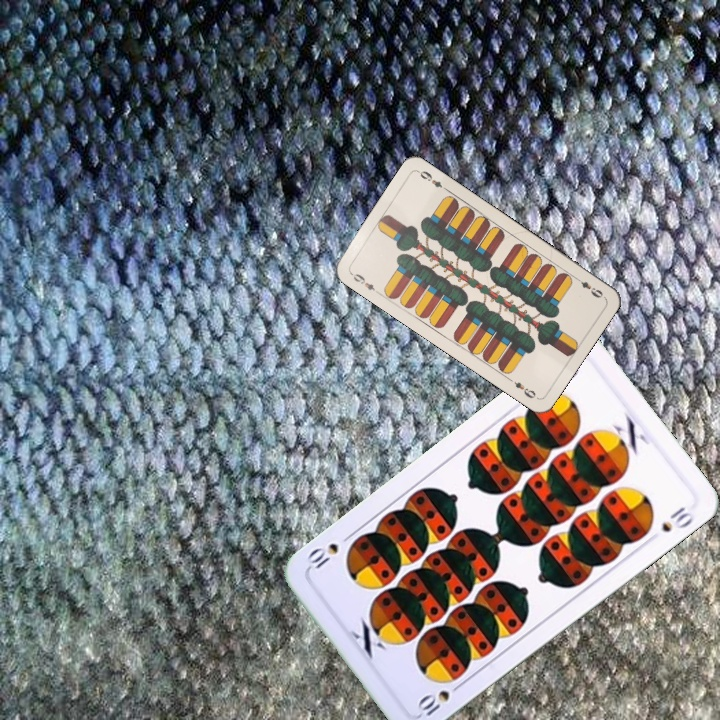E9: (571, 273, 607, 301), (347, 269, 382, 296)
S10: (413, 678, 466, 719)
